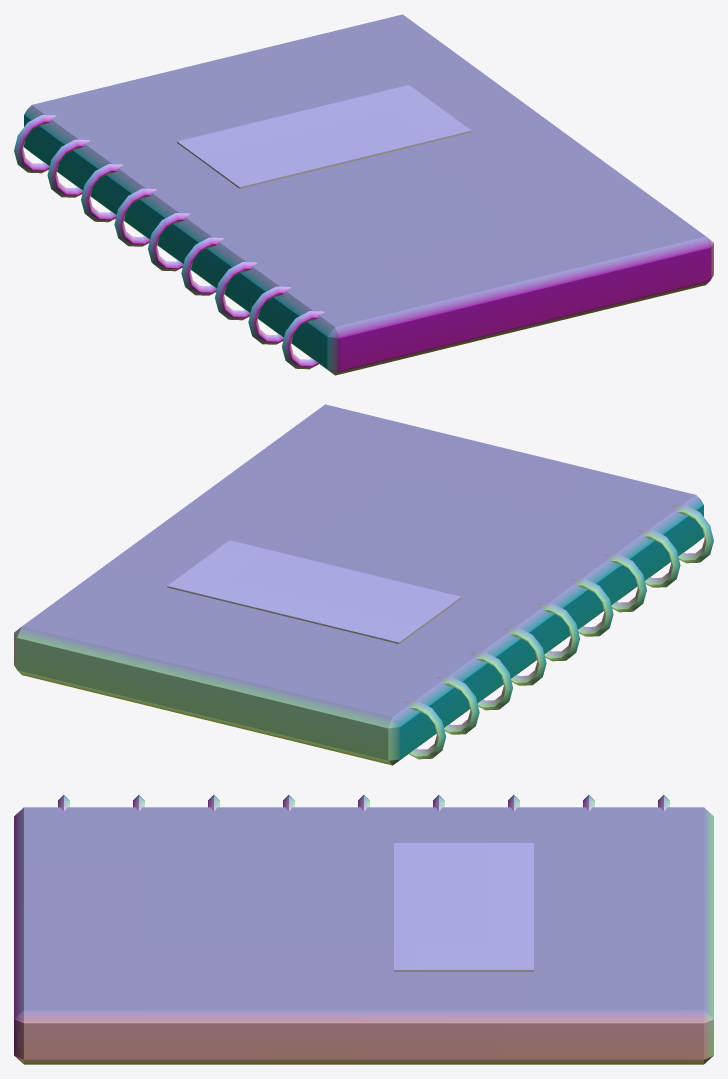
Rendered from env_deco_notebook.glb.
3 renders of one model, top to bottom at view 1: azimuth 30°, elevation 25°; view 2: azimuth 150°, elevation 25°; view 3: azimuth 270°, elevation 25°, orthographic. The views are drawn at different scales.
Visible parts, largest first — view 1: env_deco_notebook_mesh; view 2: env_deco_notebook_mesh; view 3: env_deco_notebook_mesh.
Part boxes in pixels (bbox=[...]): env_deco_notebook_mesh: bbox=[14, 14, 713, 375]; env_deco_notebook_mesh: bbox=[14, 404, 713, 765]; env_deco_notebook_mesh: bbox=[14, 795, 713, 1064].
Bounding box in the file's own units: 0.536 × 0.072 × 0.7.
